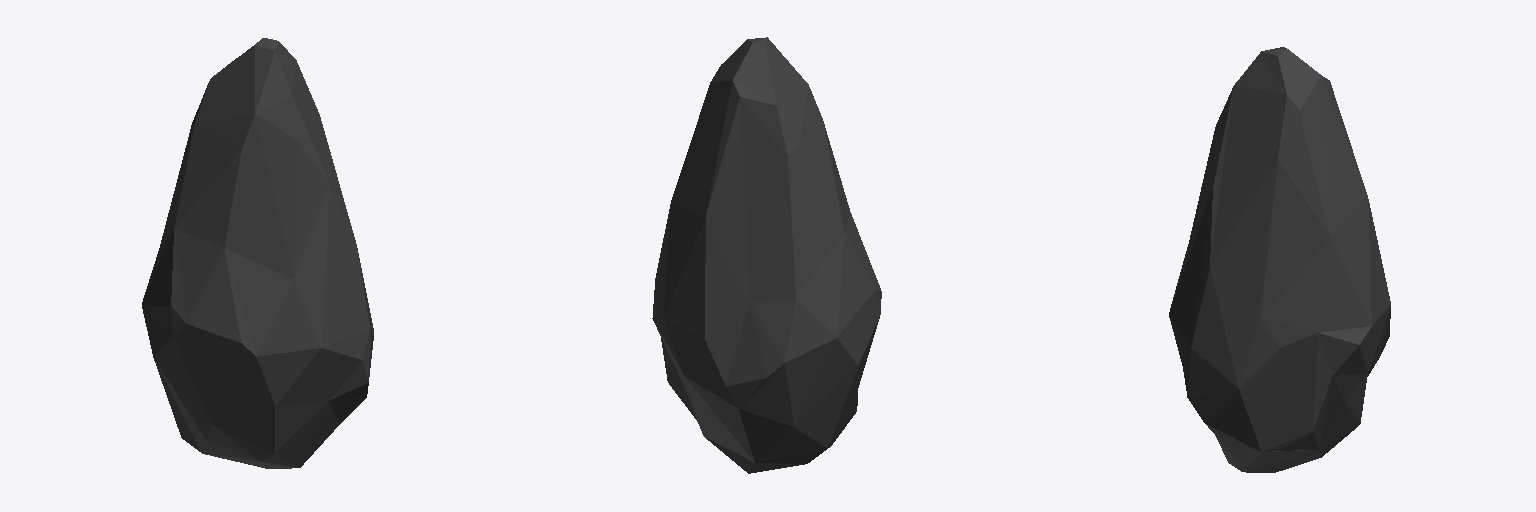
File: crystal.obj
The picture shows the model from 3 angles: view 1: azimuth 30°, elevation 25°; view 2: azimuth 150°, elevation 25°; view 3: azimuth 270°, elevation 25°; orthographic projection.
Visible parts, largest first — view 1: Icosphere; view 2: Icosphere; view 3: Icosphere.
Part boxes in pixels (x1,y1,x2,y2): Icosphere: (142, 38, 373, 468); Icosphere: (652, 37, 881, 473); Icosphere: (1169, 47, 1390, 472).
Size of the model in its own units: 1.89 by 3.94 by 1.87.